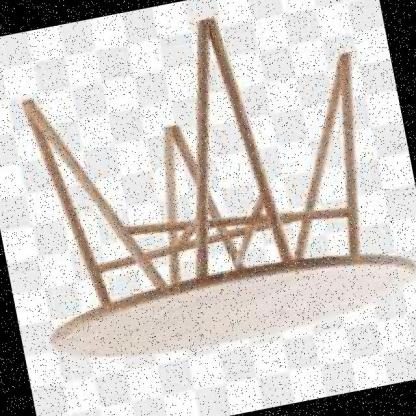Table: (0, 0, 416, 393)
